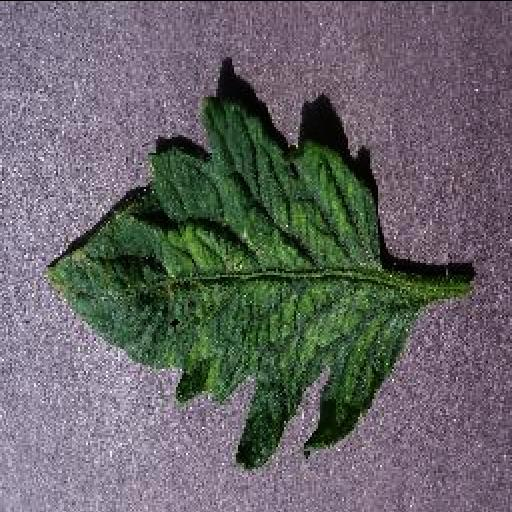disease_tomato: (46, 97, 420, 475)
